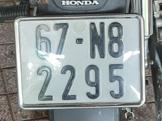2: (34, 63, 56, 105), (59, 63, 79, 104)
5: (107, 61, 128, 101)
6: (30, 21, 53, 60)
7: (53, 20, 72, 58)
8: (109, 15, 125, 60)
9: (83, 64, 103, 102)
N: (86, 16, 108, 60)
